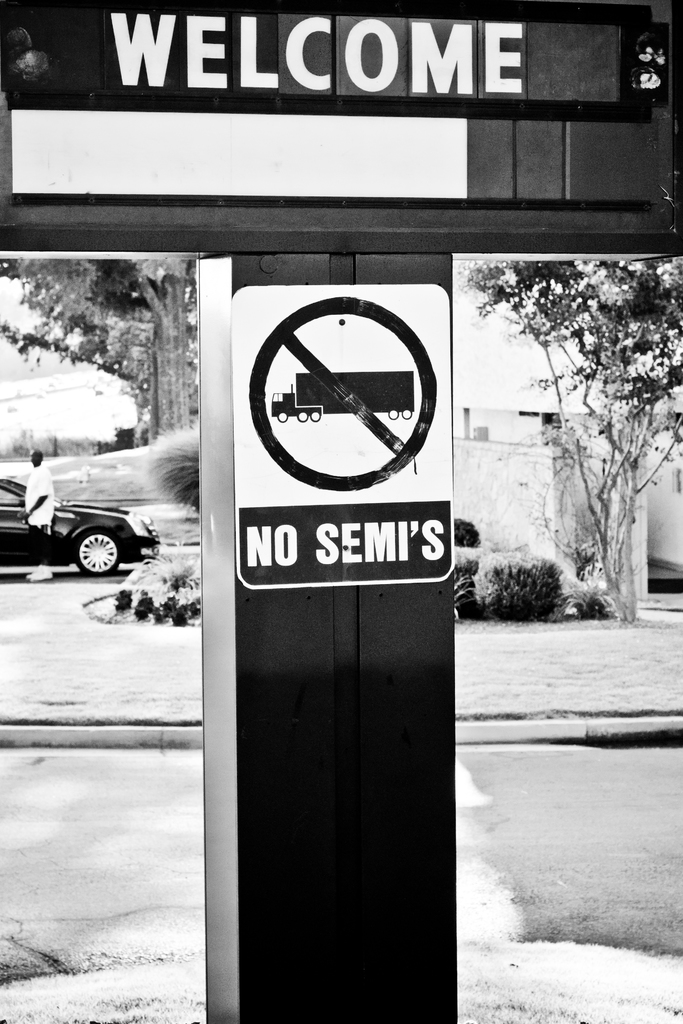Car: (0, 478, 167, 576)
